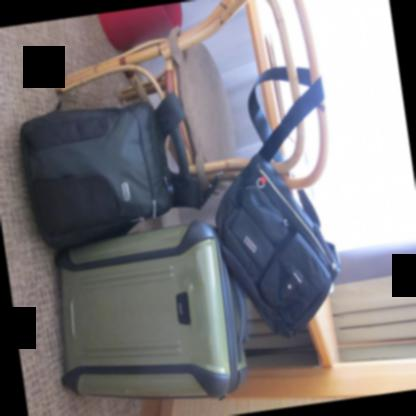backpack: (18, 91, 221, 249)
handbag: (207, 61, 337, 331)
suitcase: (53, 220, 249, 401), (213, 152, 339, 338)
